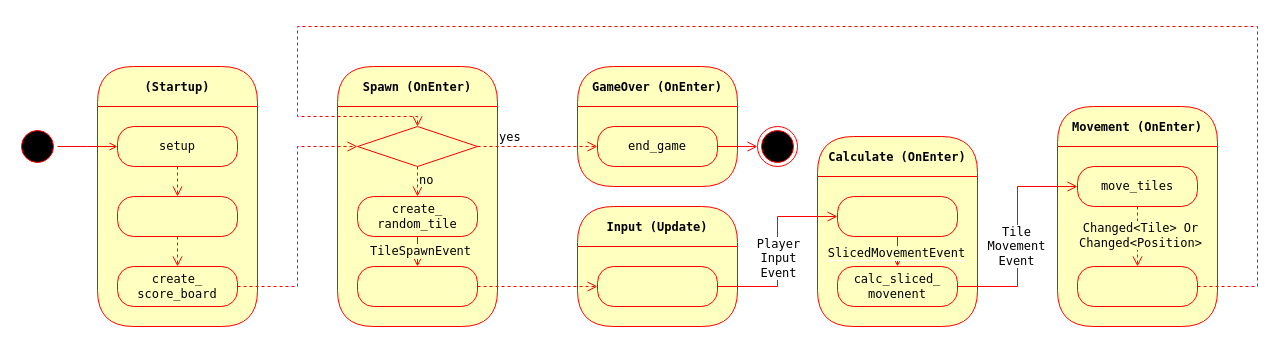
Image size: 1285x344. Some labels were removed from this diagram. Each missing label, with the centre of its shape:
board is full: the point at 417,146
create_ main_board: the point at 177,216
handle_player_ input: the point at 897,216
input_from_ keyboard: the point at 657,286
spawn_tiles: the point at 417,286
update_tiles: the point at 1137,286
